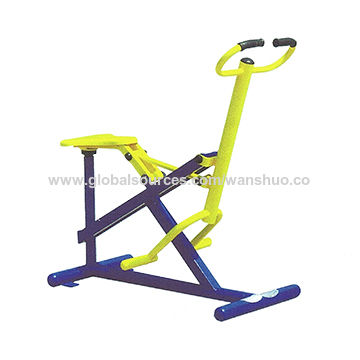gym_bike: (39, 31, 318, 324)
